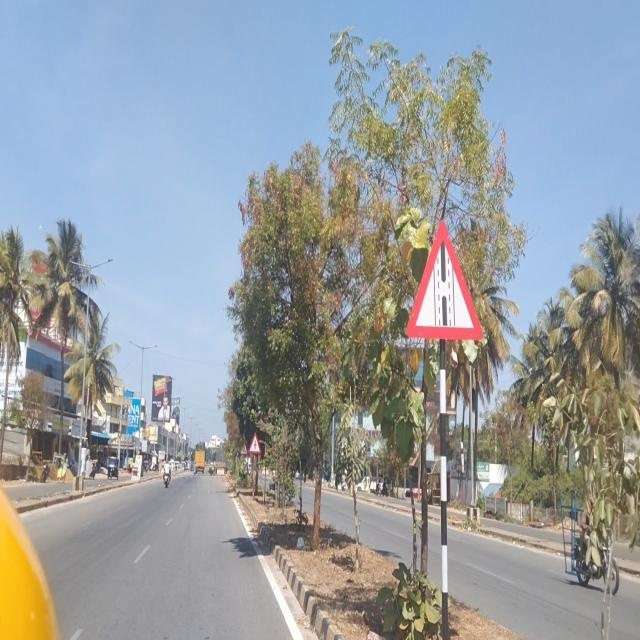bien_nguy_hiem: (405, 217, 484, 346), (249, 430, 259, 458), (238, 442, 249, 457)
